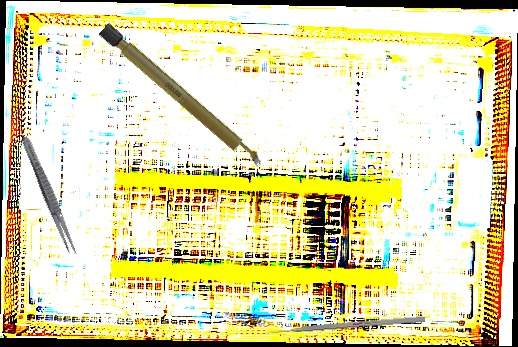Dressing Forceps: (18, 134, 81, 258)
Pusher: (258, 315, 425, 337)
Scalpel Handle: (98, 22, 266, 172)
